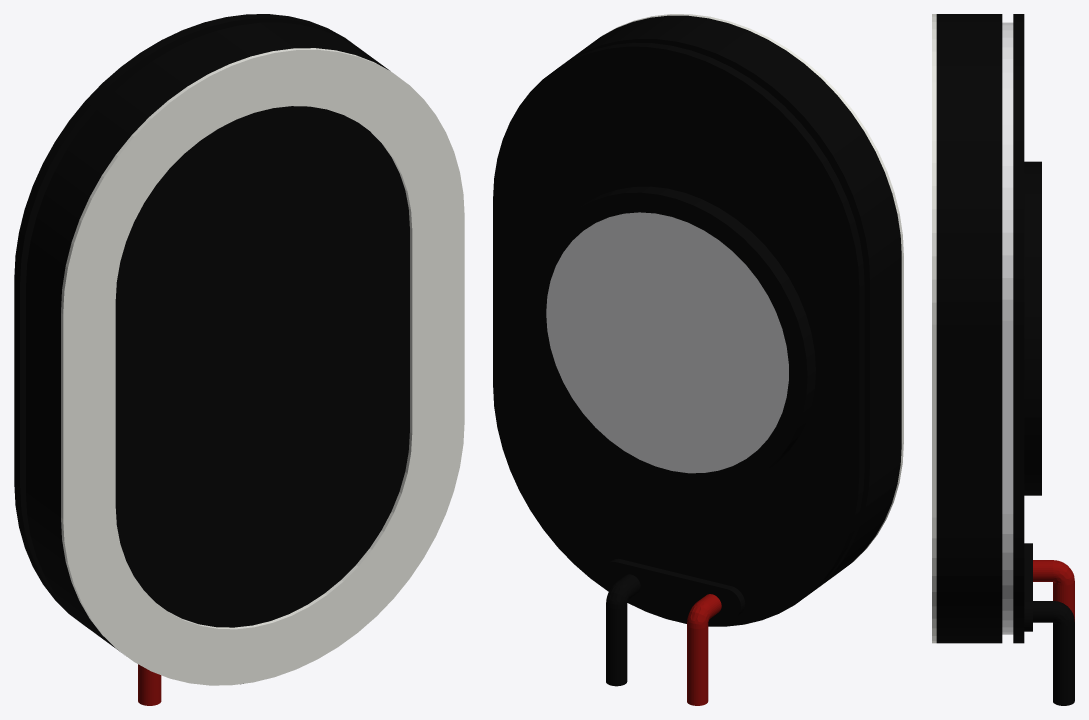
The model's file is adafruit-mini-oval-speaker.glb.
3 views of the same model, side by side, from view 1: azimuth 30°, elevation 25°; view 2: azimuth 150°, elevation 25°; view 3: azimuth 270°, elevation 25° (orthographic). The views are drawn at different scales.
Visible parts, largest first — view 1: adafruit-mini-oval-speaker; view 2: adafruit-mini-oval-speaker; view 3: adafruit-mini-oval-speaker.
Boxes of the visible parts, left/top/right/bottom form: adafruit-mini-oval-speaker: left=14, top=14, right=464, bottom=705; adafruit-mini-oval-speaker: left=493, top=14, right=903, bottom=705; adafruit-mini-oval-speaker: left=932, top=14, right=1074, bottom=705.
Size of the model in its own units: 19.9 by 32.49 by 6.5.
